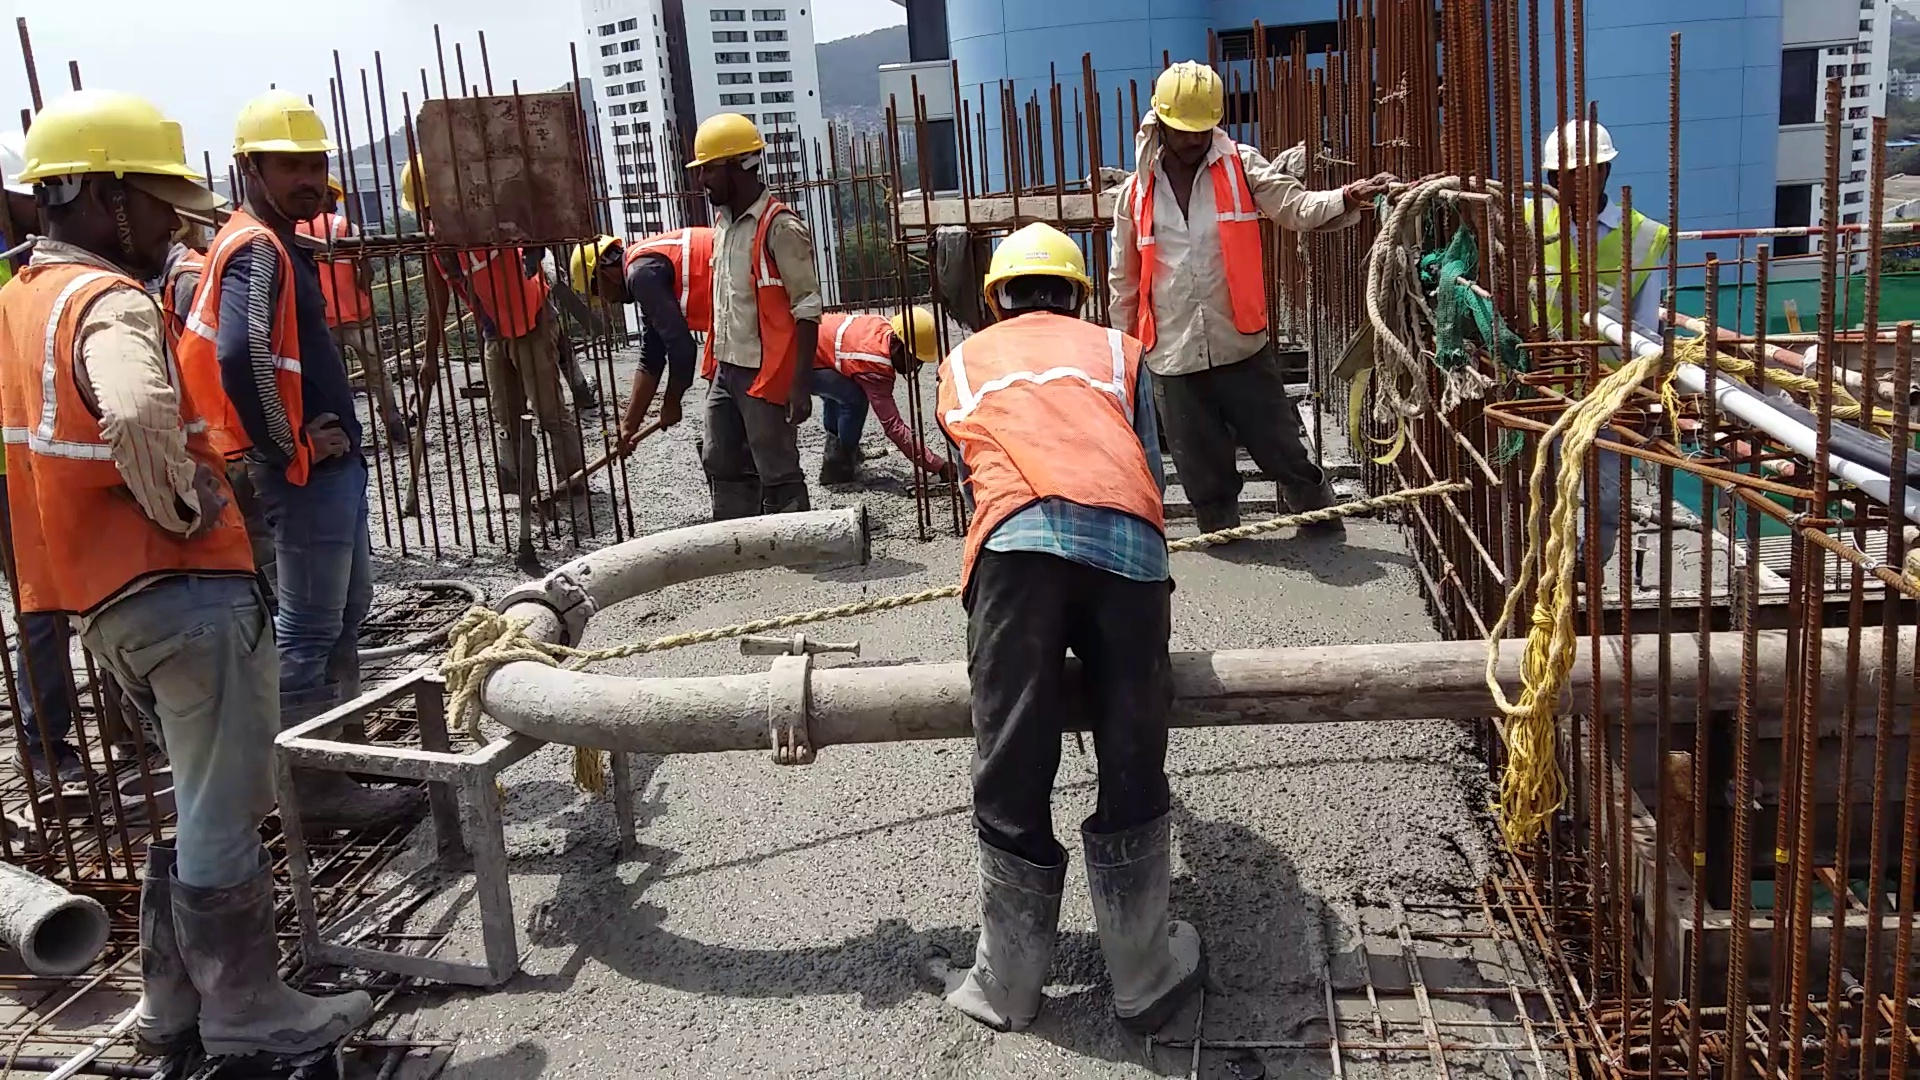SAFE: (1, 80, 207, 603), (945, 219, 1174, 593), (207, 88, 351, 477), (1131, 58, 1270, 371), (688, 100, 804, 386)
